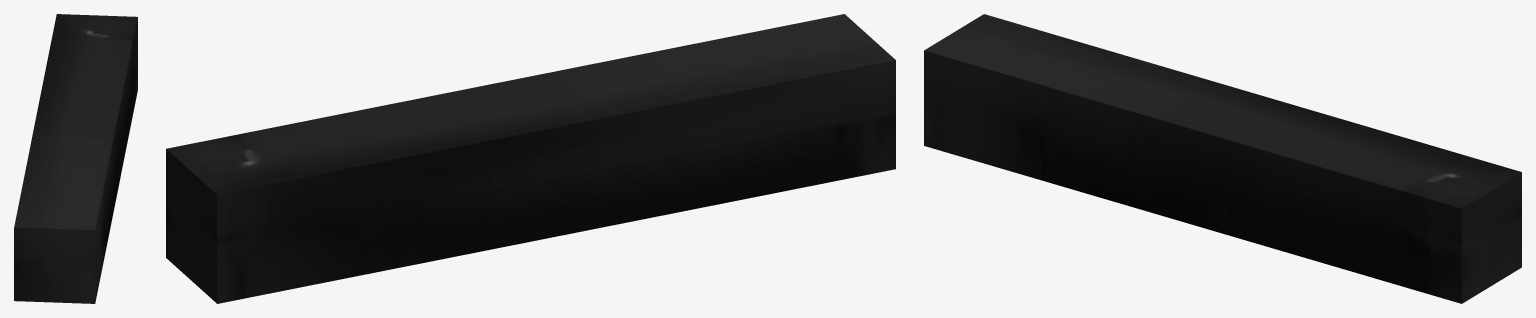
File: support_arm__support_leg_1.glb
3 renders of one model, left to right at view 1: azimuth 30°, elevation 25°; view 2: azimuth 150°, elevation 25°; view 3: azimuth 270°, elevation 25°, orthographic. The views are drawn at different scales.
Visible parts, largest first — view 1: world; view 2: world; view 3: world.
Boxes of the visible parts, box(x1,y1,x2,y2) form: world: box(14, 14, 137, 303); world: box(166, 14, 895, 303); world: box(924, 14, 1521, 303).
Size of the model in its own units: 0.1969 by 0.045 by 0.2557.
1 material, 1 textured.
